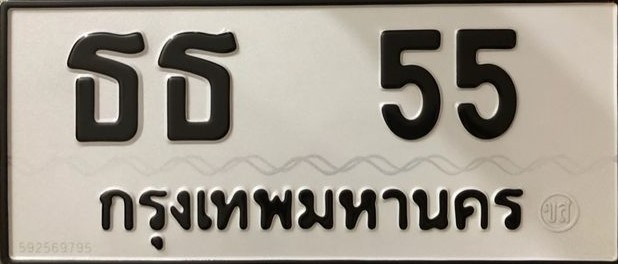txt19: (154, 26, 241, 145), (65, 28, 149, 146)
